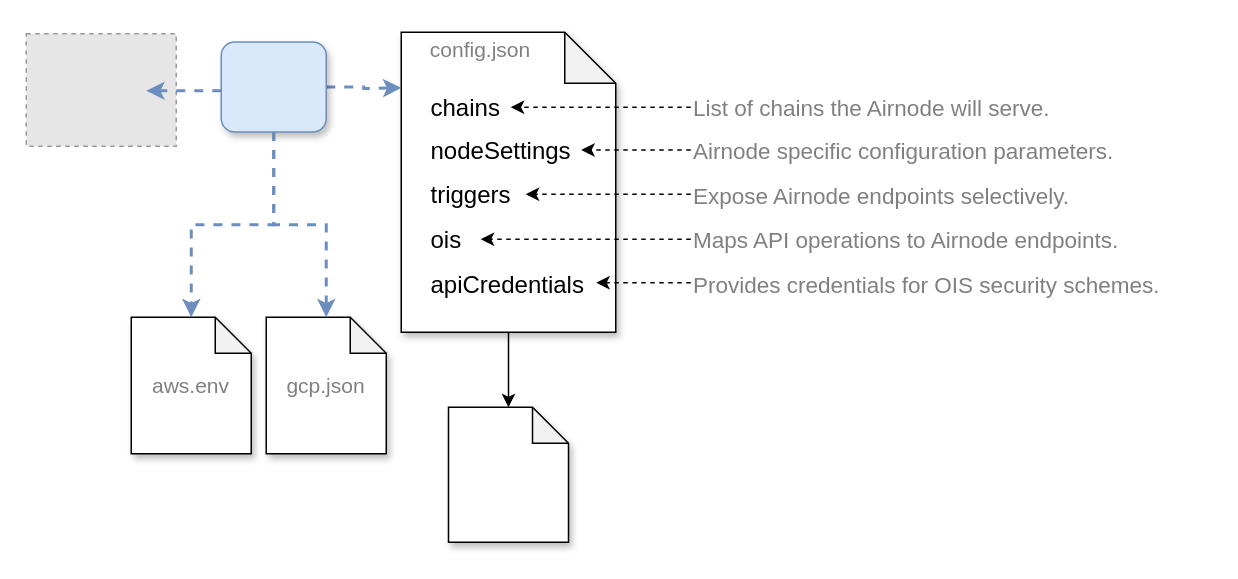
The diagram is 1238 pixels wide and 579 high, and some of its shapes have lost their labels. Grey dashed boxes stand in for pictures. Here are the shapes that lost their labels. From the top down, the centre of each, then its label:
(274,88): Docker Deployer Image
(509,476): secrets.env
